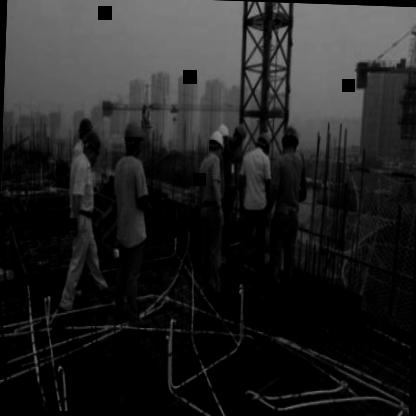helmet: (122, 118, 146, 160), (280, 122, 300, 162), (252, 130, 274, 165), (81, 130, 101, 168), (206, 130, 226, 163), (230, 122, 250, 150), (217, 119, 233, 154), (75, 112, 91, 144)
